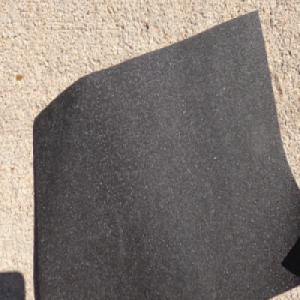PaintChip: (33, 17, 300, 300)
